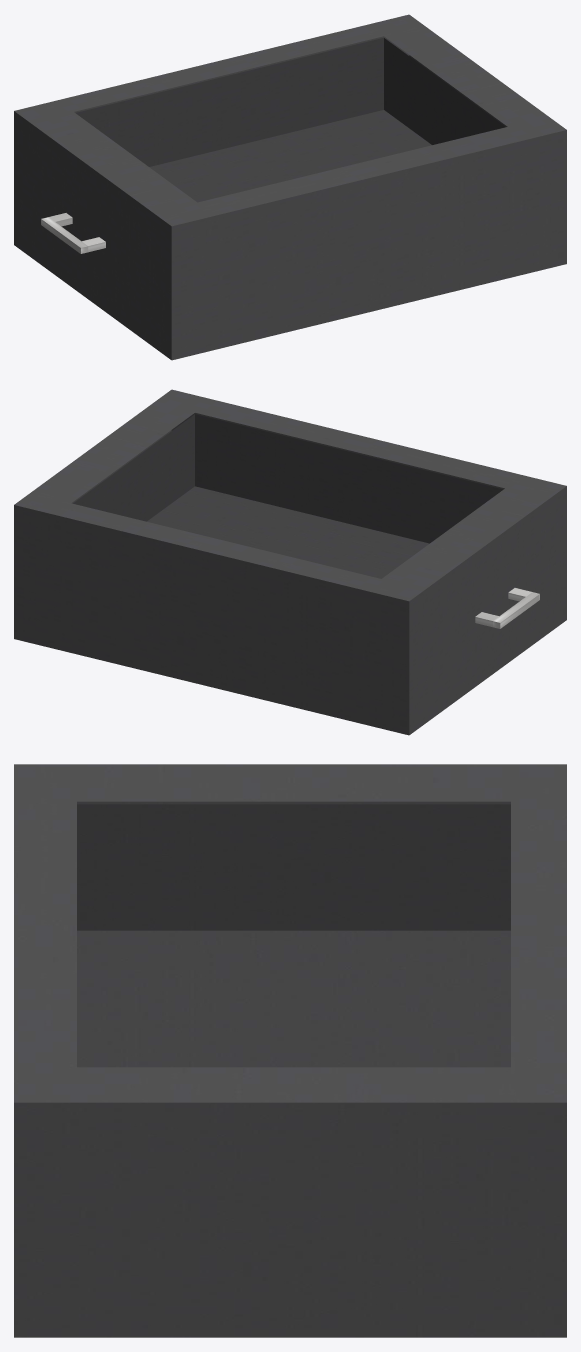
The model's file is cajon.obj.
The picture shows the model from 3 angles, top to bottom: view 1: azimuth 30°, elevation 25°; view 2: azimuth 150°, elevation 25°; view 3: azimuth 270°, elevation 25°; orthographic projection. The views are drawn at different scales.
Parts seen in each view (by area): view 1: pasted__polySurface34 group1; view 2: pasted__polySurface34 group1; view 3: pasted__polySurface34 group1.
Boxes of the visible parts, <box> form: pasted__polySurface34 group1: <box>14,14,566,360</box>; pasted__polySurface34 group1: <box>14,389,566,735</box>; pasted__polySurface34 group1: <box>14,764,566,1337</box>.
Size of the model in its own units: 0.9955 by 0.2987 by 0.6366.
Materials: 3 (3 with a texture image).
